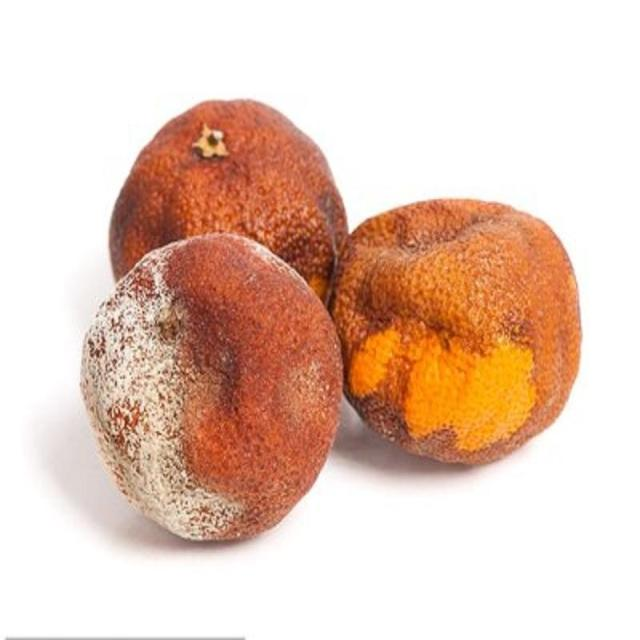organic: (78, 100, 583, 543)
